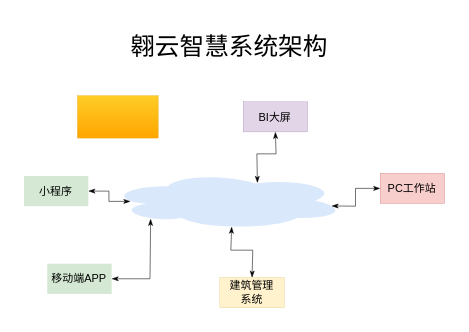
Some shapes in this 469 by 332 pixel diagram are drawn without their labels. The shapes that lost their labels are listed below. From the top down, each one's centre as x and y in pixels, then its label:
At (x=117, y=116): "线上商城".
At (x=226, y=200): "云平台".
